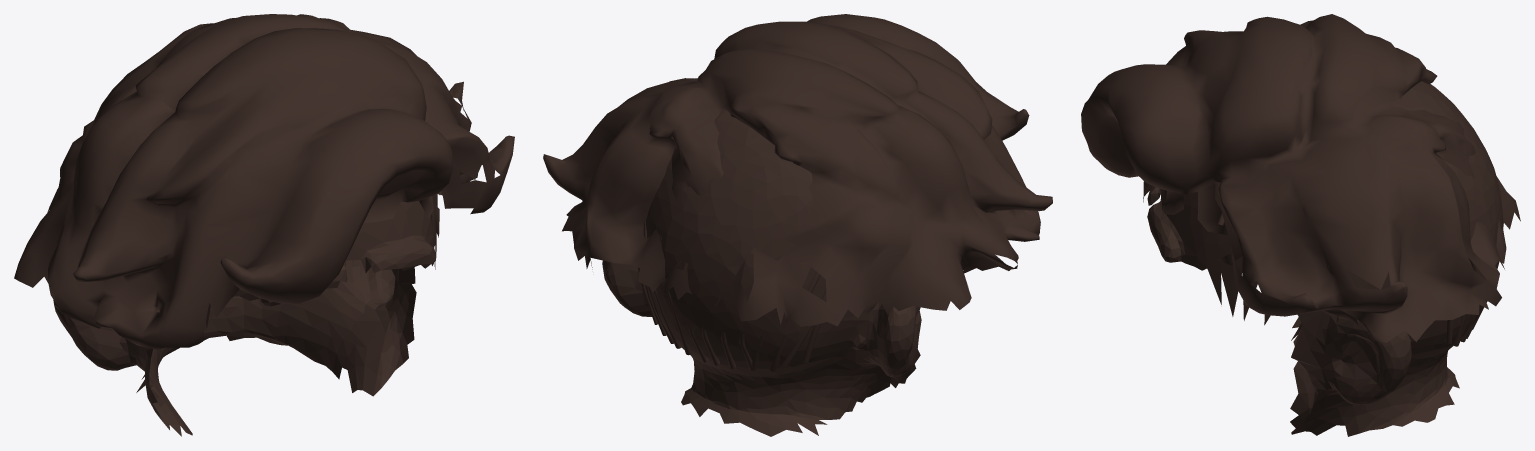
The model's file is waves.glb.
3 renders of one model, left to right at view 1: azimuth 30°, elevation 25°; view 2: azimuth 150°, elevation 25°; view 3: azimuth 270°, elevation 25°, orthographic. The views are drawn at different scales.
Parts seen in each view (by area): view 1: Hair, HairScalp; view 2: Hair, HairScalp, HairPulledRootStrands; view 3: Hair, HairScalp, HairPulledRootStrands.
Boxes of the visible parts, bbox=[...] form: Hair: bbox=[14, 14, 514, 349]; HairScalp: bbox=[53, 194, 436, 436]; Hair: bbox=[543, 14, 1052, 326]; HairScalp: bbox=[602, 109, 921, 436]; HairPulledRootStrands: bbox=[638, 221, 826, 371]; Hair: bbox=[1081, 14, 1520, 342]; HairScalp: bbox=[1147, 81, 1503, 436]; HairPulledRootStrands: bbox=[1217, 212, 1487, 346].
Bounding box in the file's own units: 0.6335 × 0.485 × 0.5325.
